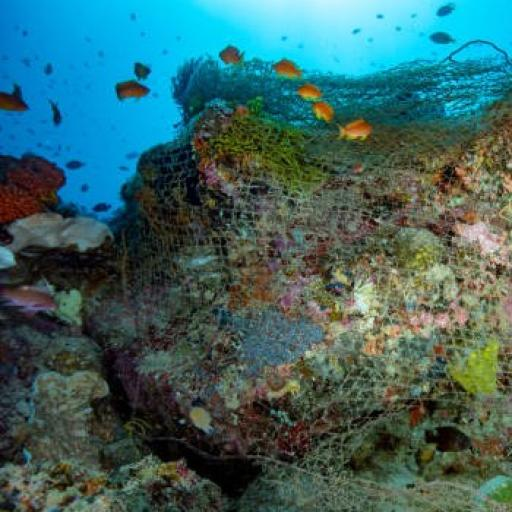net: (80, 44, 512, 481)
